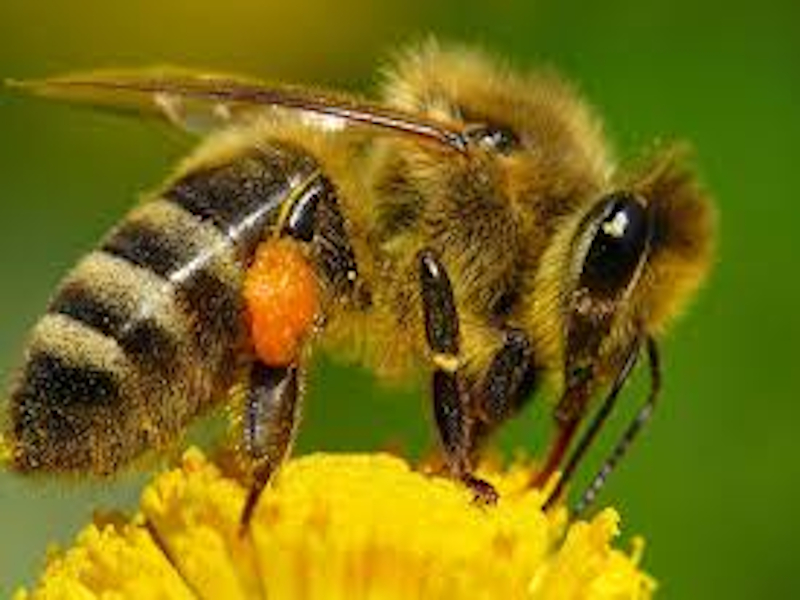abeja: (5, 15, 771, 558)
